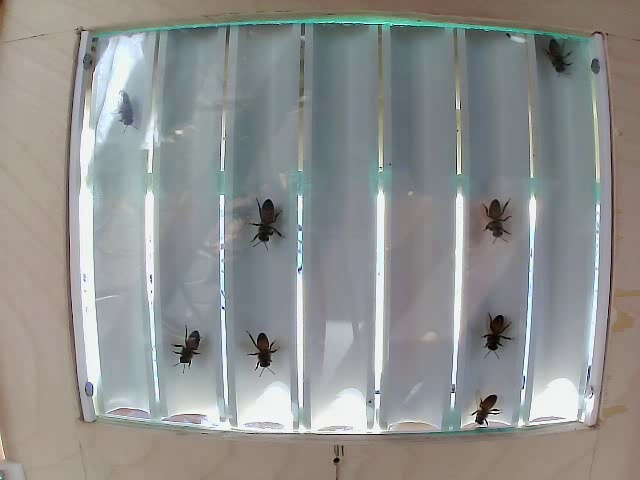bee: (480, 307, 514, 355), (240, 329, 277, 371), (252, 201, 287, 244), (467, 388, 503, 428), (542, 34, 573, 80), (478, 190, 507, 239), (162, 335, 197, 369)
